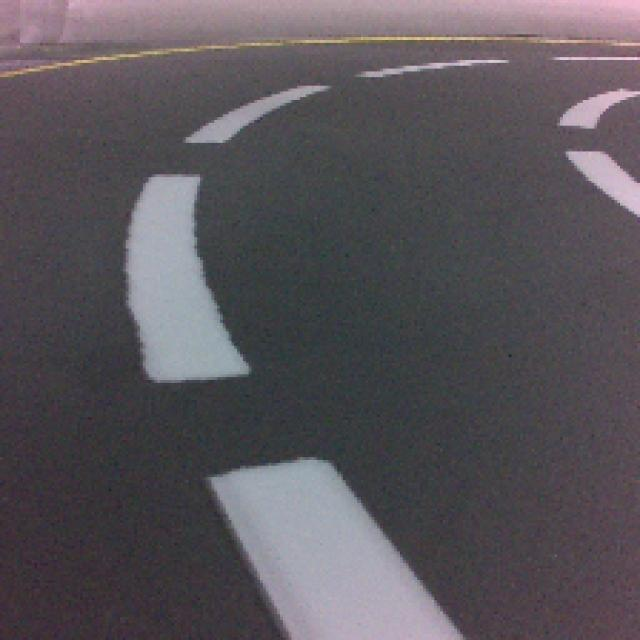Pedestrian crosswalk: (209, 454, 466, 640)
